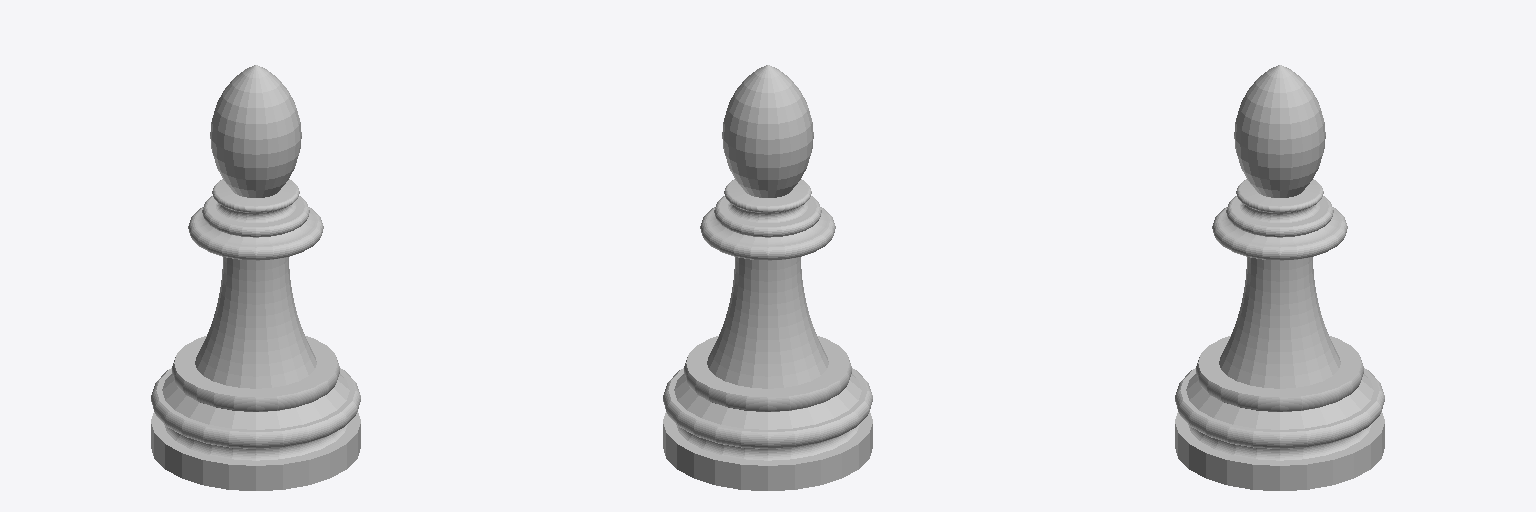
Rendered from bispob.obj.
3 renders of one model, left to right at view 1: azimuth 30°, elevation 25°; view 2: azimuth 150°, elevation 25°; view 3: azimuth 270°, elevation 25°, orthographic.
Visible parts, largest first — view 1: object_1; view 2: object_1; view 3: object_1.
Part boxes in pixels (left/top/right/bottom): object_1: left=151, top=65, right=360, bottom=490; object_1: left=663, top=65, right=872, bottom=490; object_1: left=1175, top=65, right=1384, bottom=490.
Size of the model in its own units: 0.0569 by 0.1138 by 0.0569.